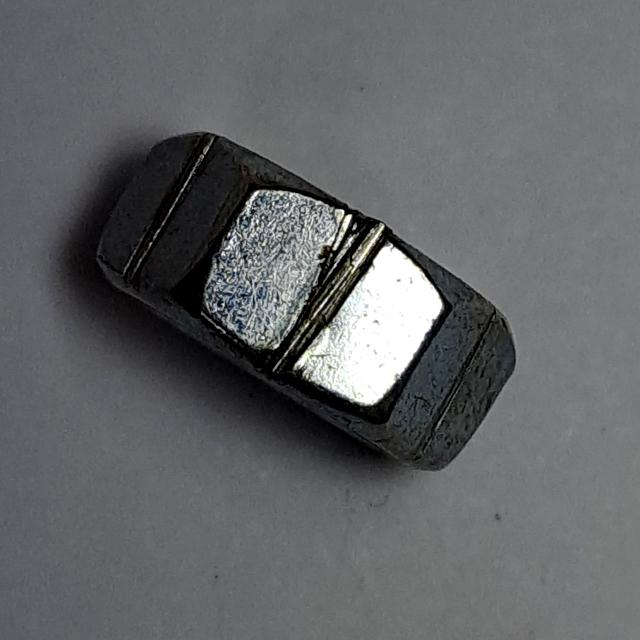Side_Scratches: (85, 113, 534, 484)
